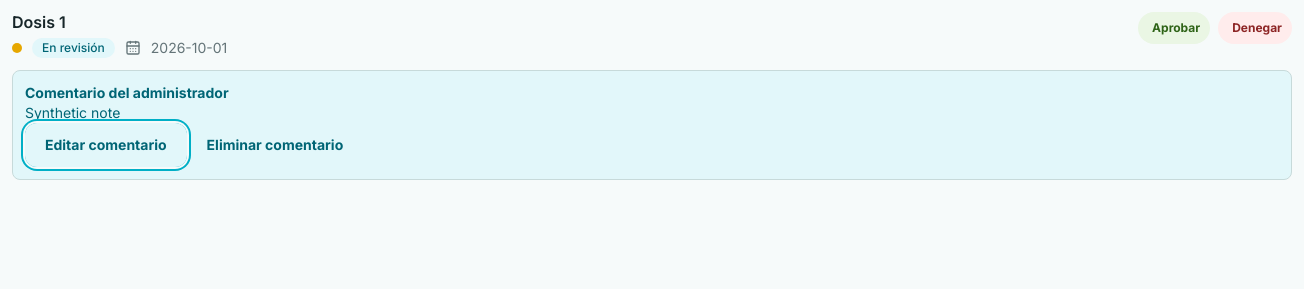
it: retains dose data and cancels keyboard comment editing without sending a review
The width and height of the screenshot is (1304, 289).
Expected: the text "2026-10-01" is shown, [151,38,227,58]
Expected: the text "Synthetic note" is shown, [25,104,120,121]
Press Enter
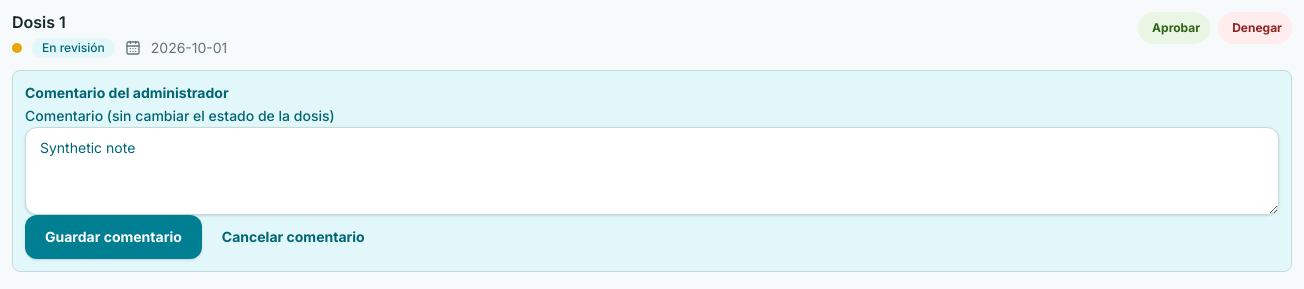
In the text box labelled "Comentario (sin cambiar el estado de la dosis)": (652, 171) [25,127,1279,215], type " changed"
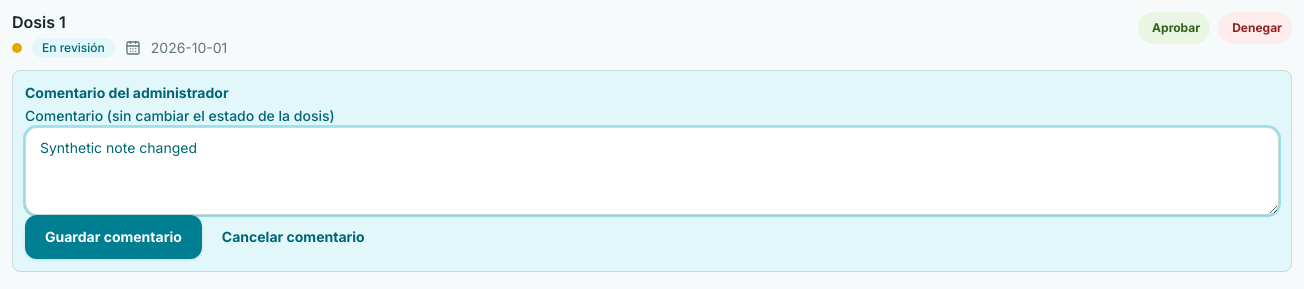
Click the button "Cancelar comentario": (293, 237) [202,215,385,259]
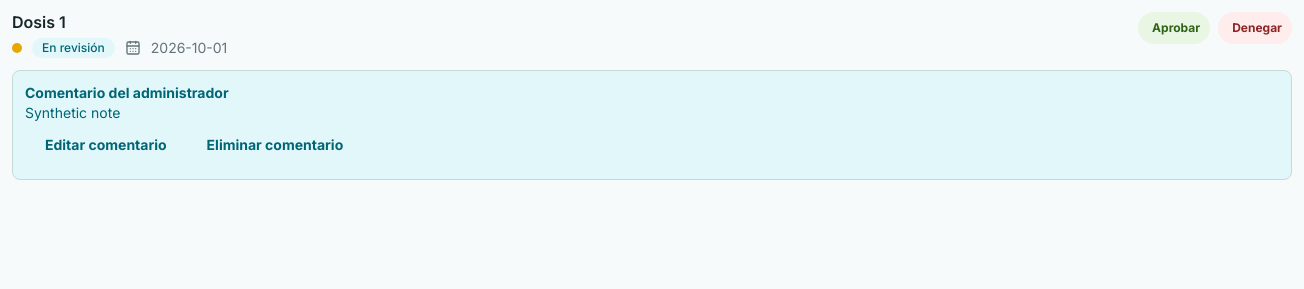
Expected: the text "Synthetic note" is shown, [25,104,120,121]
